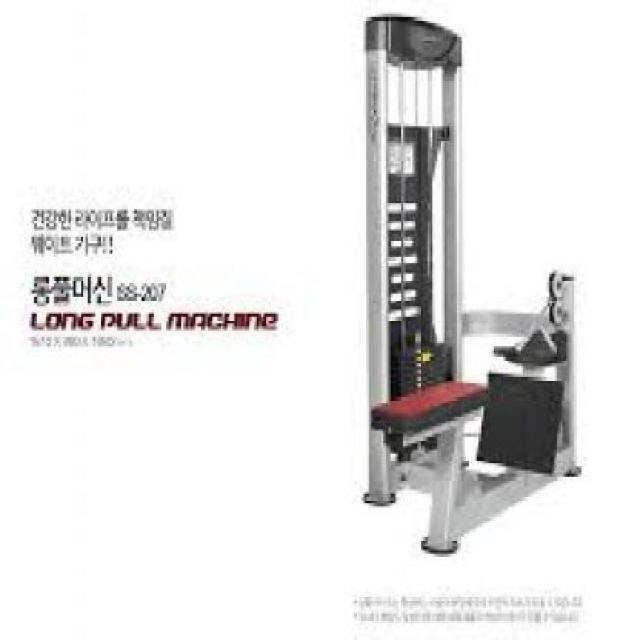Seated Cable Rows: (343, 10, 591, 568)
